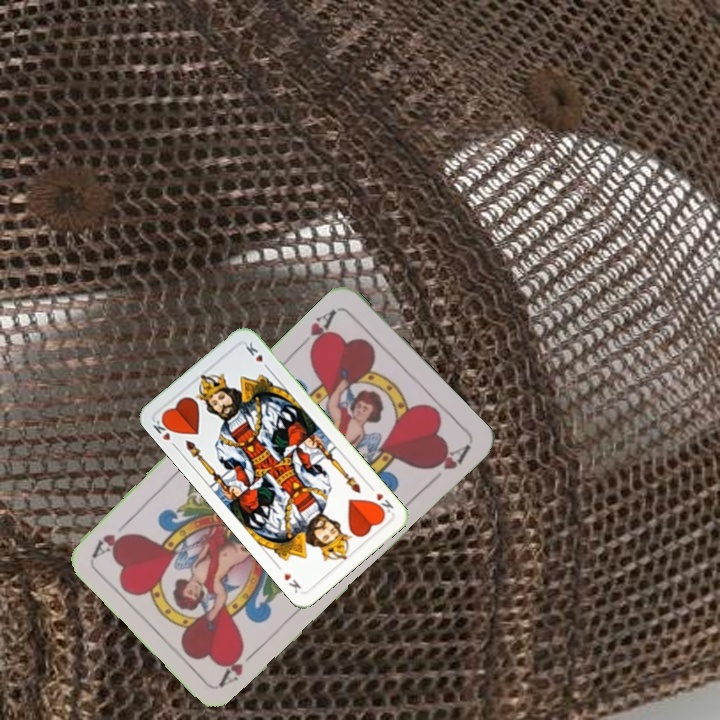HA: (294, 305, 341, 358), (216, 642, 263, 689)
HK: (148, 413, 180, 451), (365, 482, 396, 517)
